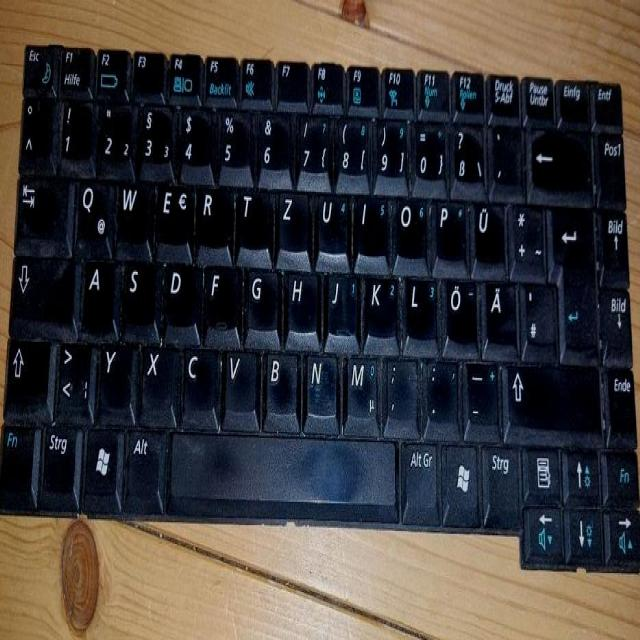0: (412, 118, 445, 189)
1: (58, 98, 93, 165)
2: (96, 101, 134, 175)
3: (137, 102, 172, 177)
4: (178, 105, 212, 175)
5: (217, 108, 249, 176)
6: (256, 108, 289, 179)
7: (296, 112, 329, 182)
8: (334, 115, 368, 185)
9: (374, 116, 406, 185)
a: (80, 256, 115, 320)
accent: (487, 119, 520, 188)
ae: (483, 276, 516, 342)
alt-left: (124, 423, 161, 505)
altgr-right: (400, 437, 437, 523)
b: (262, 346, 296, 415)
c: (180, 343, 217, 419)
caret: (17, 93, 54, 167)
comma: (383, 352, 416, 431)
d: (161, 260, 198, 326)
del: (526, 126, 591, 195)
e: (154, 182, 191, 243)
enter: (547, 201, 595, 356)
f: (203, 262, 236, 327)
g: (242, 263, 277, 329)
h: (284, 265, 317, 330)
hash: (521, 279, 554, 349)
i: (355, 192, 387, 255)
j: (324, 269, 356, 333)
k: (364, 274, 396, 338)
keyboard: (0, 39, 640, 576)
l: (404, 273, 436, 339)
less: (54, 336, 92, 416)
m: (342, 349, 377, 428)
minus: (463, 355, 498, 435)
n: (302, 348, 336, 416)
o: (393, 194, 426, 258)
oe: (442, 273, 477, 342)
p: (433, 195, 465, 259)
plus: (508, 198, 543, 276)
point: (424, 355, 457, 432)
q: (73, 175, 112, 253)
r: (196, 181, 228, 245)
s: (122, 260, 154, 323)
shift-left: (1, 335, 52, 416)
shift-lock: (8, 255, 75, 325)
shift-right: (500, 358, 602, 432)
space: (165, 429, 397, 506)
ss: (450, 124, 482, 185)
strg-left: (40, 419, 76, 493)
strg-right: (480, 441, 519, 527)
t: (237, 186, 269, 250)
tab: (13, 173, 70, 253)
u: (315, 189, 348, 256)
ue: (472, 198, 504, 263)
v: (222, 345, 257, 419)
w: (114, 177, 148, 243)
x: (139, 340, 176, 422)
y: (98, 338, 133, 415)
z: (276, 186, 308, 252)
